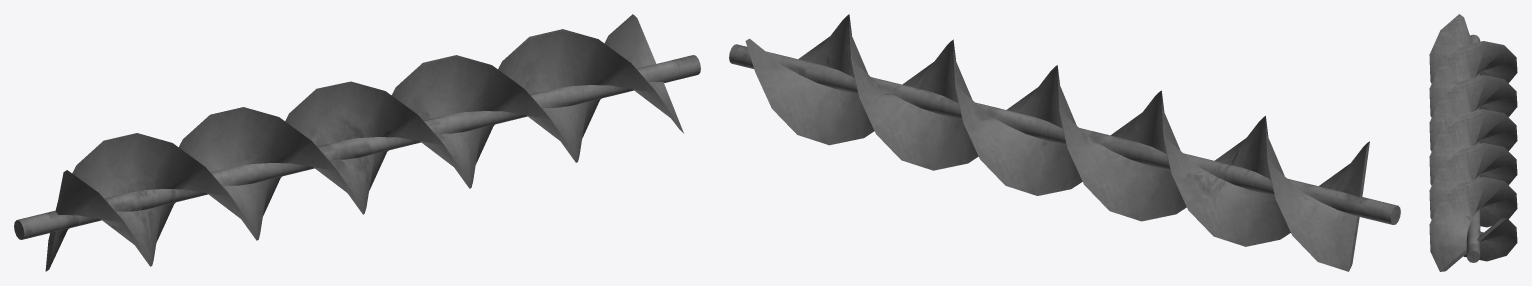
File: PelletMill_FeederScrew_ModernFBX.fbx
The picture shows the model from 3 angles, left to right: view 1: azimuth 30°, elevation 25°; view 2: azimuth 150°, elevation 25°; view 3: azimuth 270°, elevation 25°; orthographic projection. The views are drawn at different scales.
Visible parts, largest first — view 1: FeederShaft001; view 2: FeederShaft001; view 3: FeederShaft001.
Part boxes in pixels (bbox=[...]): FeederShaft001: bbox=[14, 14, 700, 271]; FeederShaft001: bbox=[729, 14, 1400, 271]; FeederShaft001: bbox=[1429, 14, 1517, 271].
Size of the model in its own units: 38 by 6.54 by 6.54.
Materials: 1 (1 with a texture image).
